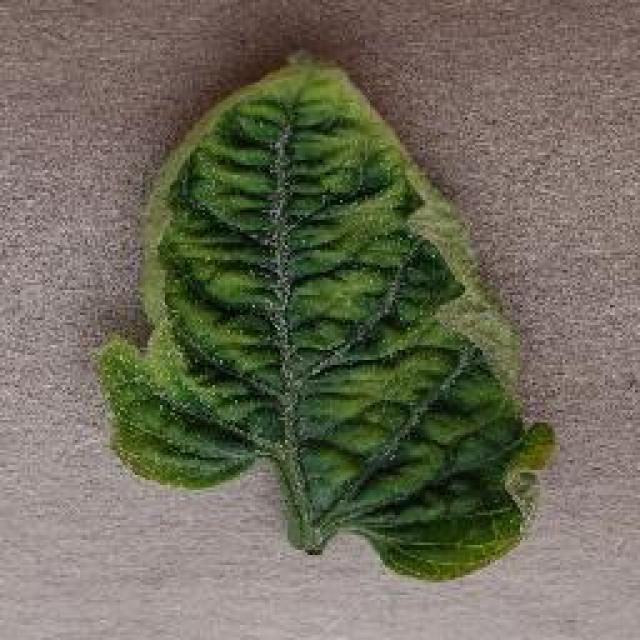Tomato yellow virus leaf: (97, 53, 560, 582)
